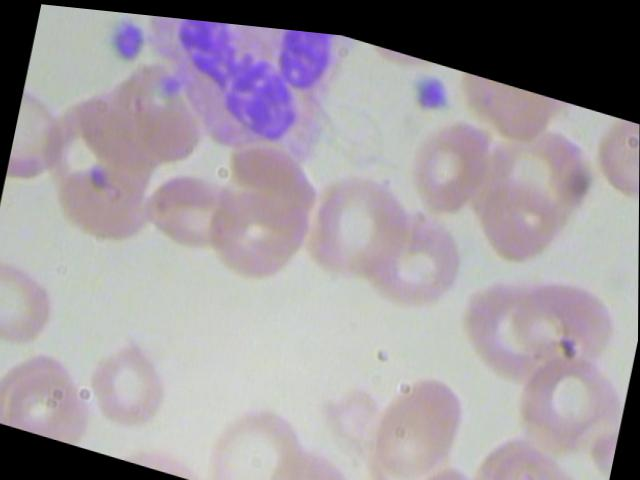Platelets: (395, 56, 460, 116), (102, 8, 155, 71)
Red Blood Cells: (298, 150, 425, 287), (352, 185, 476, 314), (508, 326, 631, 456), (364, 349, 469, 479), (139, 149, 256, 261), (47, 145, 163, 257), (77, 323, 184, 436), (404, 93, 502, 213), (200, 382, 318, 479), (0, 253, 69, 359), (589, 100, 639, 195), (288, 434, 368, 479)
White Blood Cells: (121, 10, 353, 173)
